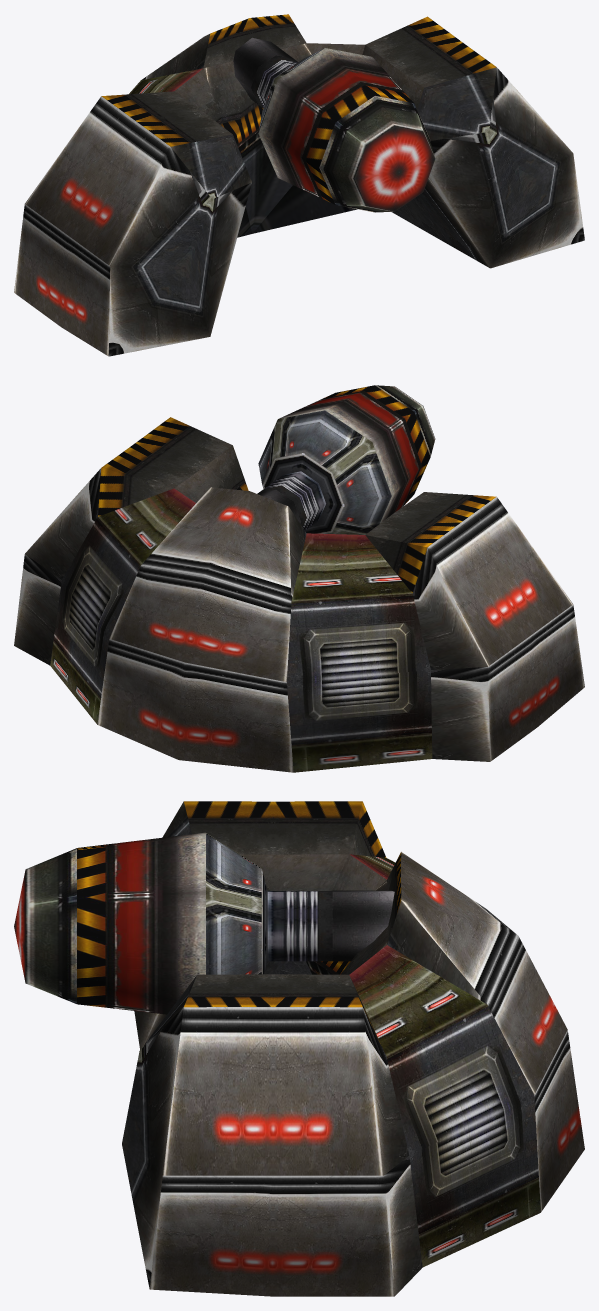
The model's file is flame-thrower-04.DAE.
3 views of the same model, one above another, from view 1: azimuth 30°, elevation 25°; view 2: azimuth 150°, elevation 25°; view 3: azimuth 270°, elevation 25° (orthographic). The views are drawn at different scales.
Parts seen in each view (by area): view 1: flame-thrower-04; view 2: flame-thrower-04; view 3: flame-thrower-04.
Boxes of the visible parts, left/top/right/bottom form: flame-thrower-04: left=14, top=14, right=584, bottom=356; flame-thrower-04: left=14, top=385, right=584, bottom=772; flame-thrower-04: left=14, top=801, right=584, bottom=1296.
Size of the model in its own units: 4.15 by 3.33 by 2.03.
